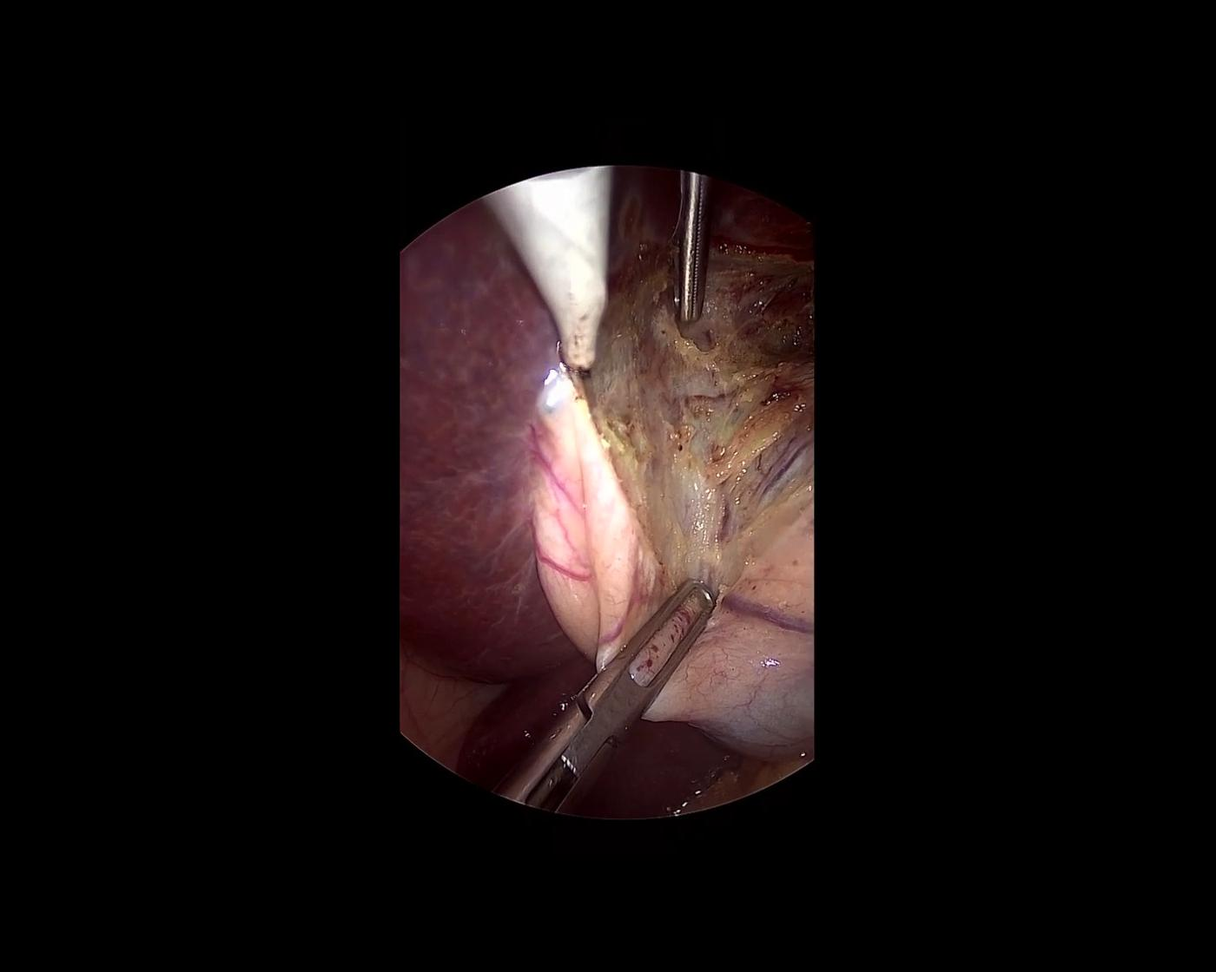Cautery: (480, 154, 667, 383)
Forceps: (493, 555, 723, 835), (676, 168, 710, 322)
Gallbladder: (531, 364, 813, 758)
Liver: (255, 190, 748, 886), (700, 180, 827, 275), (602, 165, 683, 292)
